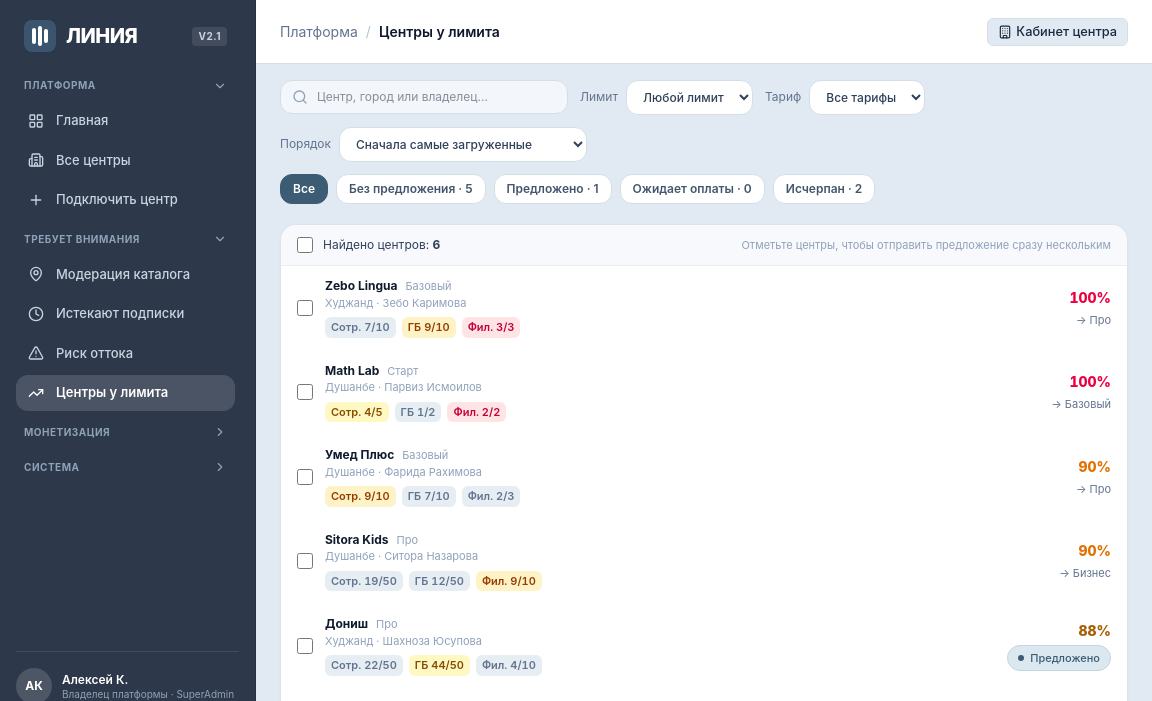
it: центры у лимита (PLT-TRF-040) › массовое предложение: отправлено двоим, статус «Предложено», отметки сняты
The width and height of the screenshot is (1152, 701).
(page scrolled)
Click the checkbox named "Выбрать Math Lab": (305, 392) [297,384,313,400]
(page scrolled)
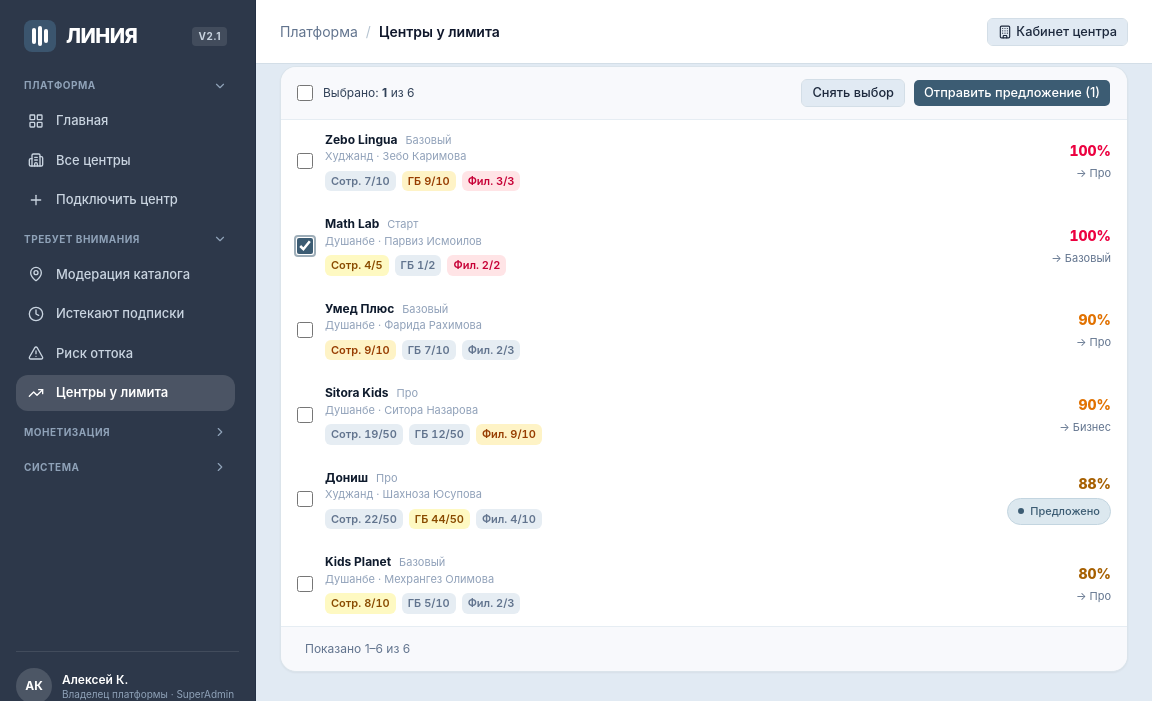
Click the checkbox named "Выбрать Kids Planet": (305, 584) [297,576,313,592]
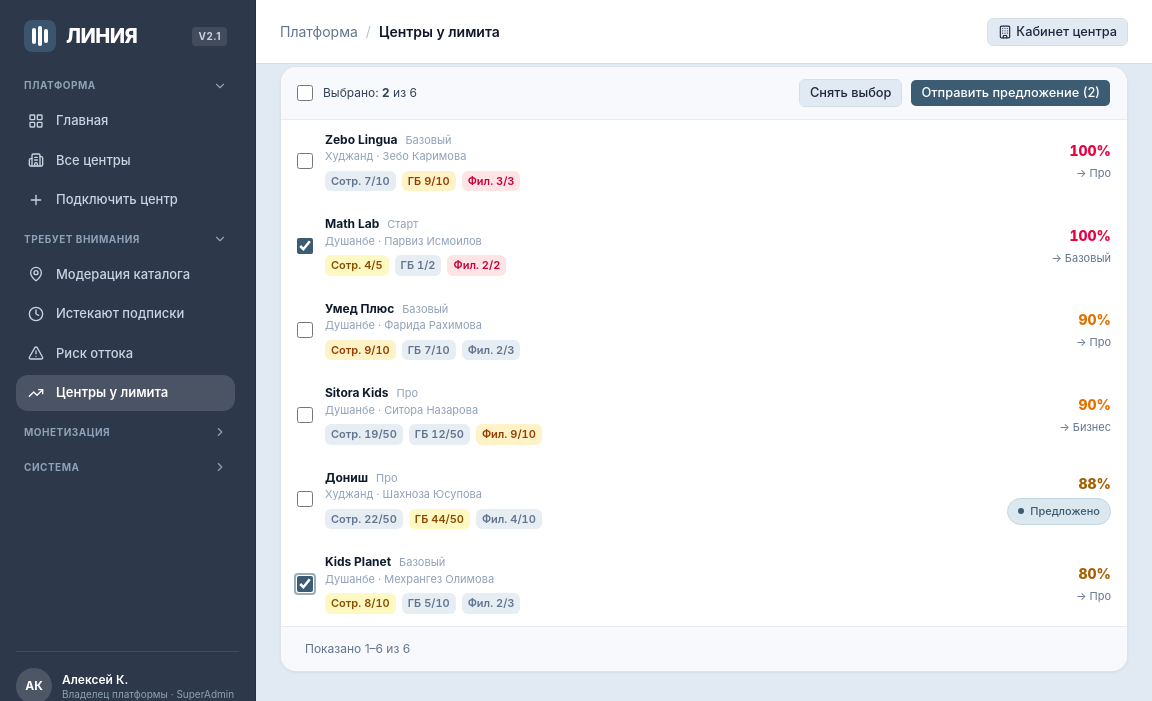
Expected: the text "Выбрано: 2 из 6" is shown, [323,84,417,100]
Click the button "Отправить предложение (2)": (1011, 92) [910,78,1111,106]
(page scrolled)
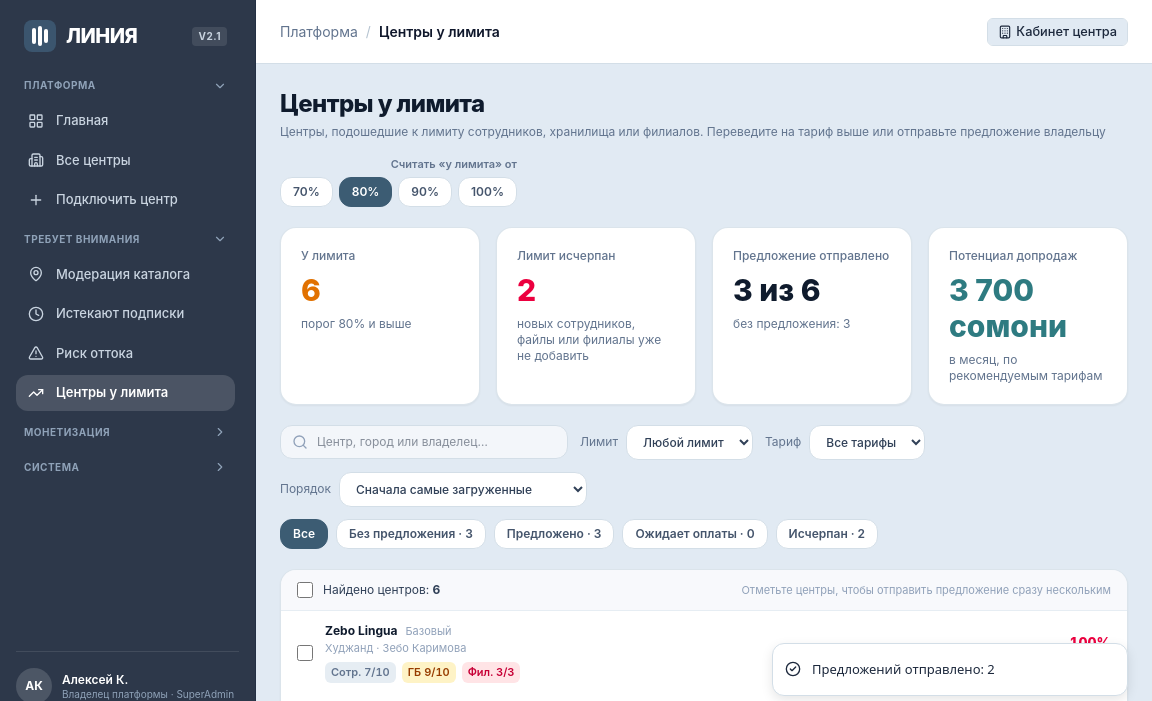
Expected: the text "Предложений отправлено: 2" is shown, [812,660,995,679]
Expected: the button "Отправить предложение (" is gone
